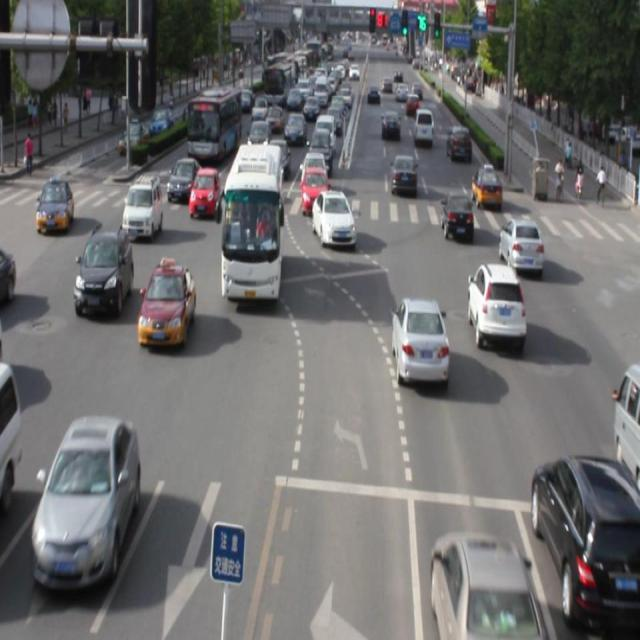car: (32, 414, 139, 591), (534, 453, 640, 626), (430, 531, 536, 640), (73, 225, 133, 314), (393, 296, 450, 389), (466, 263, 525, 349), (138, 263, 194, 347), (123, 176, 163, 242), (311, 196, 355, 253), (500, 217, 541, 272), (440, 190, 474, 243), (188, 168, 221, 218)
truck: (614, 359, 640, 487)
van: (223, 143, 282, 305)
